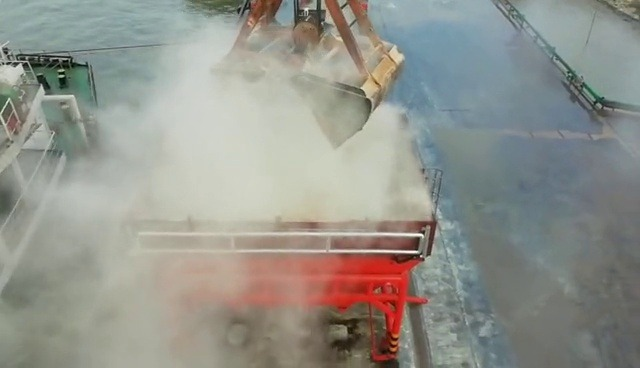dust: (14, 33, 423, 358)
grab: (209, 0, 411, 153)
